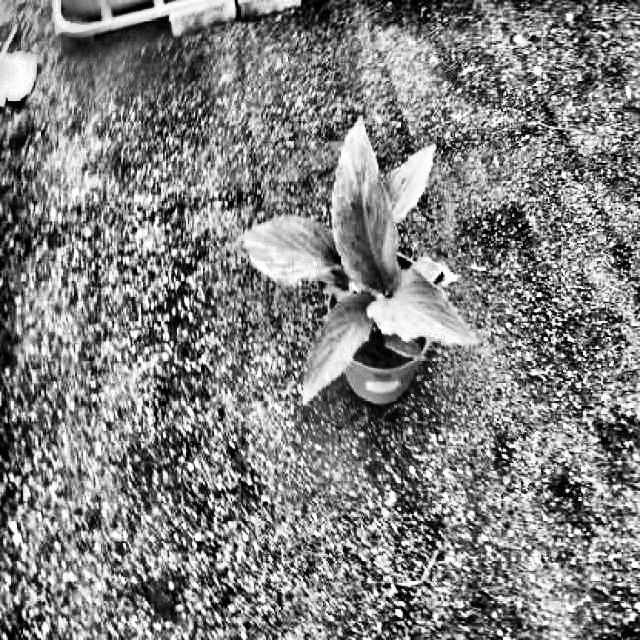plants: (236, 115, 477, 408)
